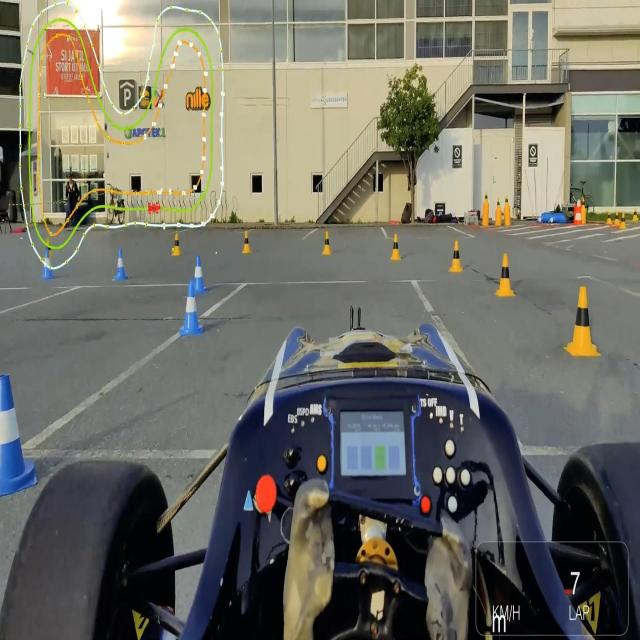blue_cone: (0, 355, 33, 477), (181, 279, 205, 340), (112, 239, 132, 281), (189, 257, 206, 295)
yellow_cone: (560, 274, 601, 369), (494, 247, 525, 309), (235, 213, 257, 265), (314, 226, 339, 271), (447, 238, 472, 276), (385, 228, 405, 266), (170, 233, 184, 264)
